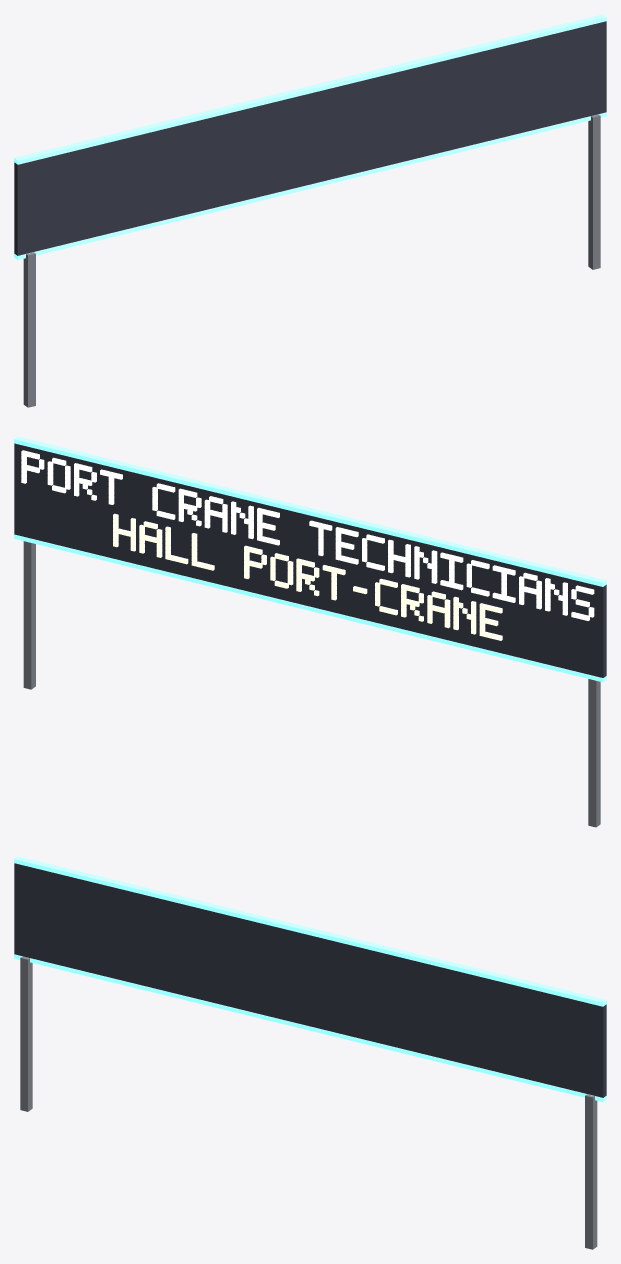
The model's file is wing-sign-hall-port-crane.glb.
3 views of the same model, one above another, from view 1: azimuth 30°, elevation 25°; view 2: azimuth 150°, elevation 25°; view 3: azimuth 330°, elevation 25° (orthographic).
Parts seen in each view (by area): view 1: Sign · Port Crane Technicians; view 2: Sign · Port Crane Technicians; view 3: Sign · Port Crane Technicians.
Part boxes in pixels (bbox=[...]): Sign · Port Crane Technicians: bbox=[14, 14, 606, 407]; Sign · Port Crane Technicians: bbox=[14, 436, 606, 827]; Sign · Port Crane Technicians: bbox=[14, 856, 606, 1249].
Bounding box in the file's own units: 12.15 × 4.88 × 0.254.
